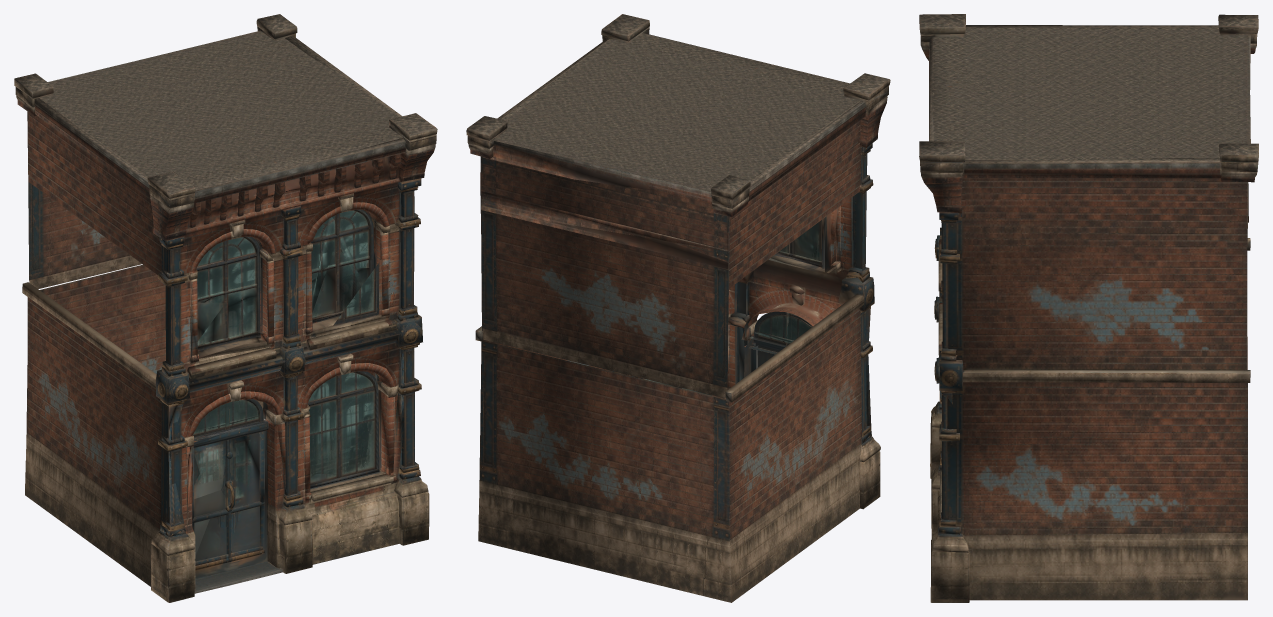
The model's file is Facade.glb.
The picture shows the model from 3 angles, left to right: view 1: azimuth 30°, elevation 25°; view 2: azimuth 150°, elevation 25°; view 3: azimuth 270°, elevation 25°; orthographic projection. The views are drawn at different scales.
Size of the model in its own units: 0.6777 by 1 by 0.6863.
1 material, 1 textured.
